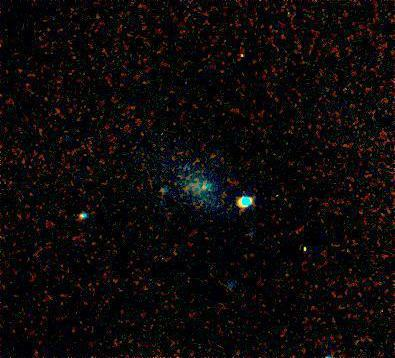star: (189, 174, 219, 204)
